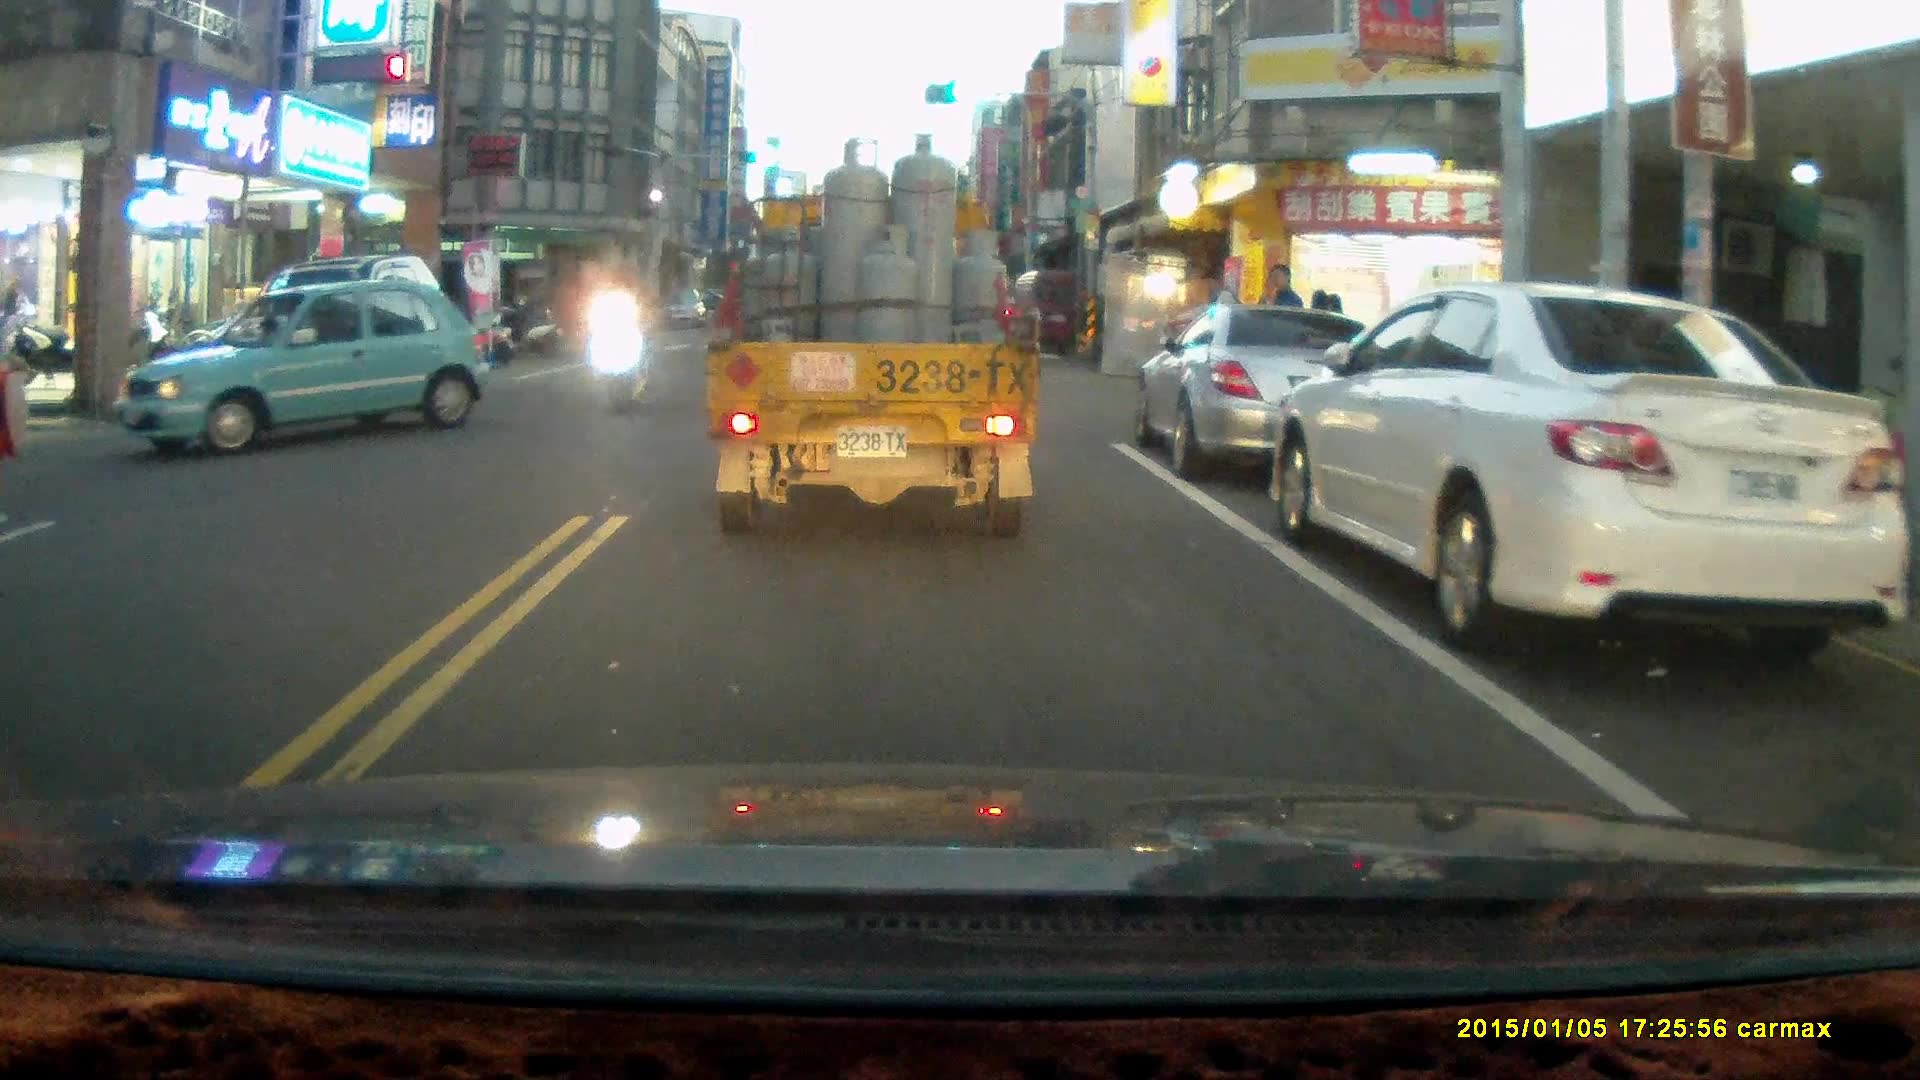rider: (592, 260, 649, 418)
vehicle: (1268, 282, 1905, 658), (705, 133, 1046, 538), (118, 282, 492, 458), (1137, 300, 1394, 478), (1008, 268, 1095, 358), (655, 288, 710, 332)
